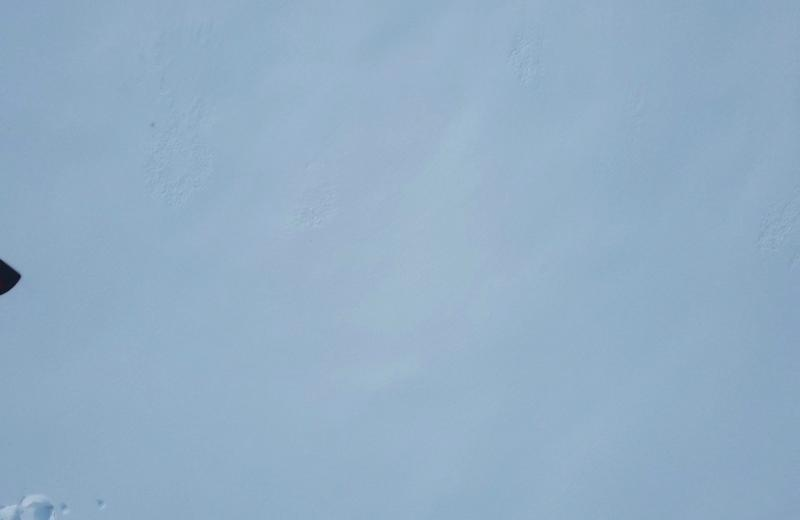Quarter Circle: (0, 258, 24, 296)
